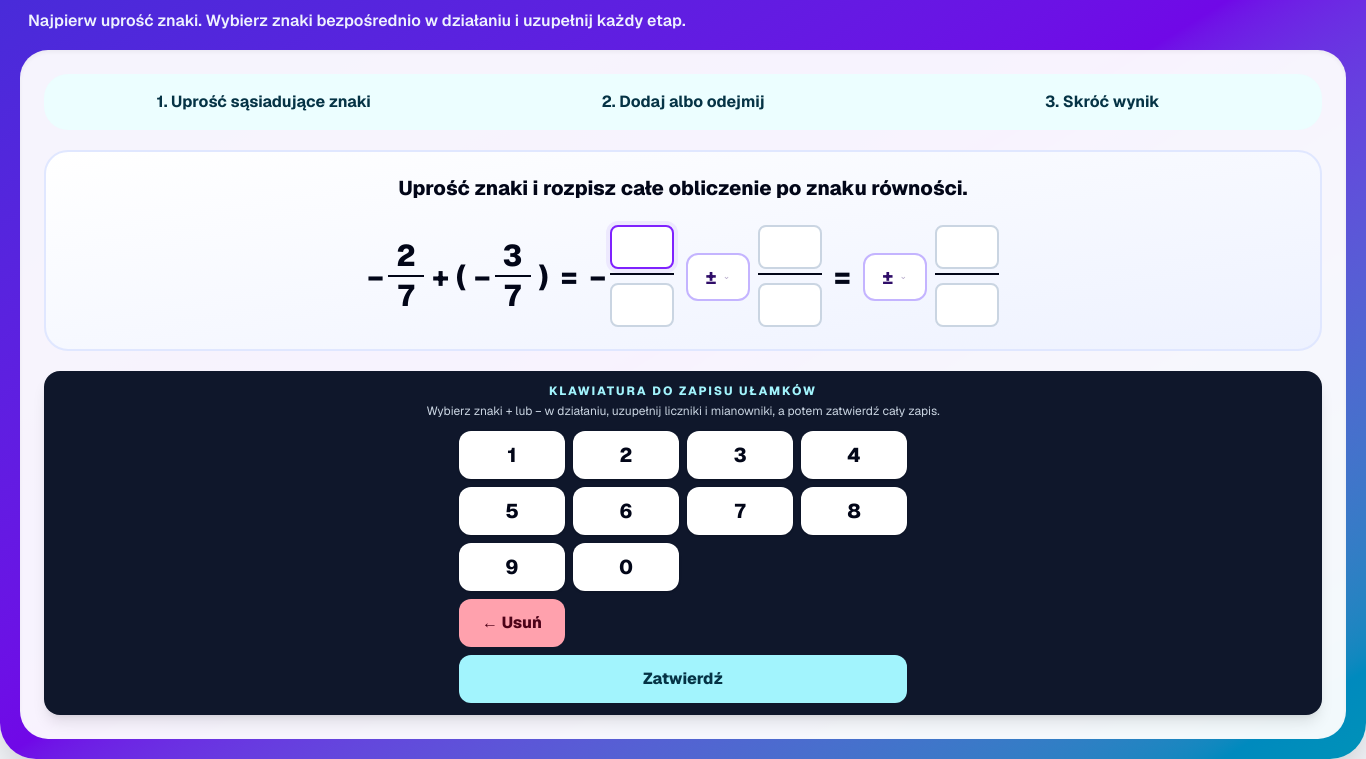
Test case: Grade6SignedNumbersLessonLab V2 › nie pozwala zatwierdzić pustego zapisu ułamkowego
The width and height of the screenshot is (1366, 759).
(page scrolled)
Step 1. Click the button "Zatwierdź" → (683, 678), box x1=459 y1=654 x2=907 y2=702
(page scrolled)
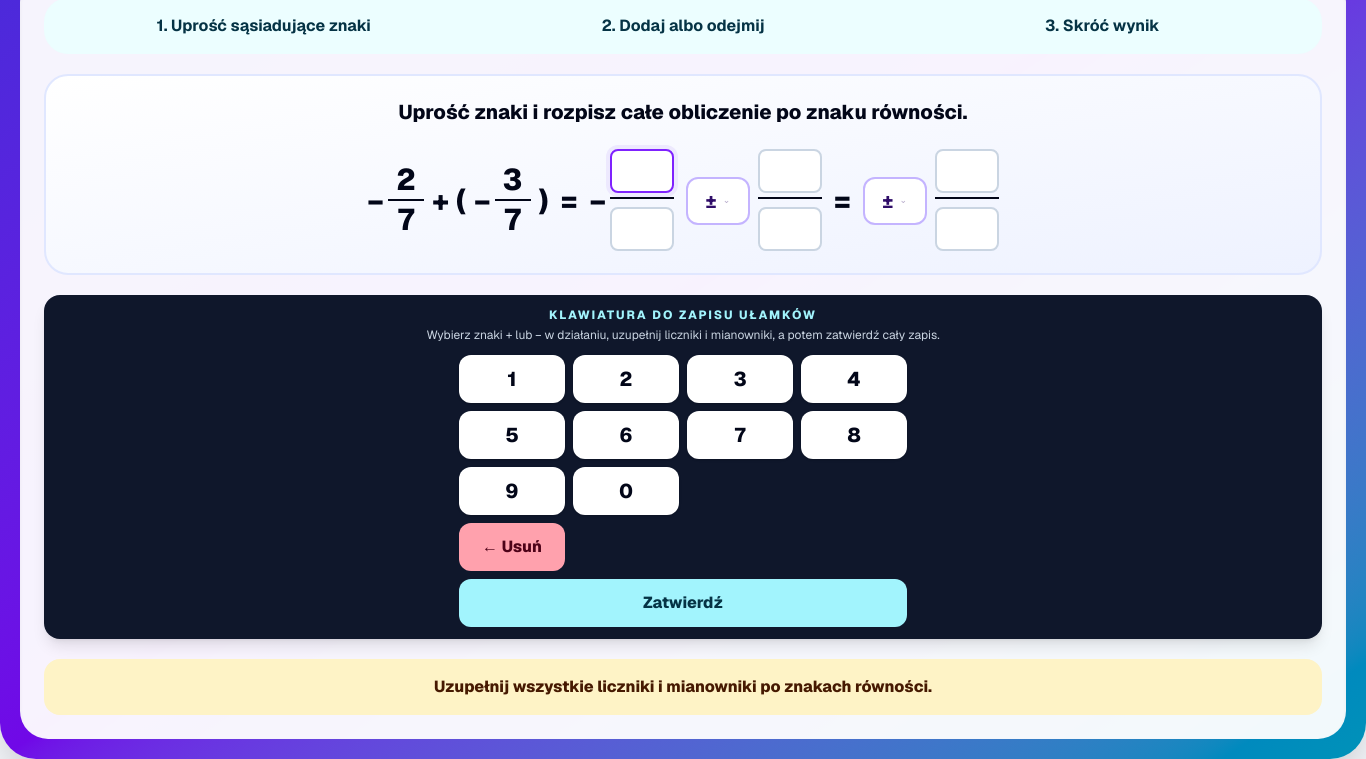
Check: the message shows "Uzupełnij wszystkie liczniki i mianowniki", box x1=434 y1=676 x2=932 y2=696
